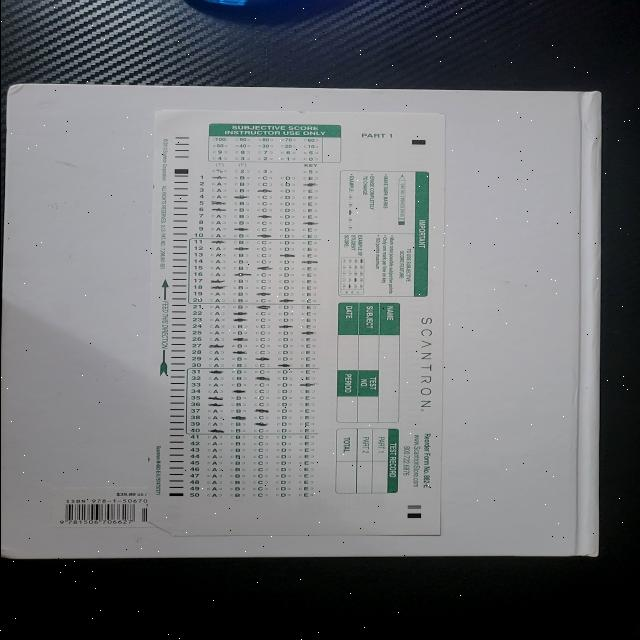scantron: (145, 109, 447, 536)
